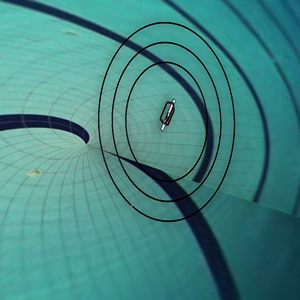circle: (81, 14, 255, 238)
submarine: (153, 92, 182, 143)
